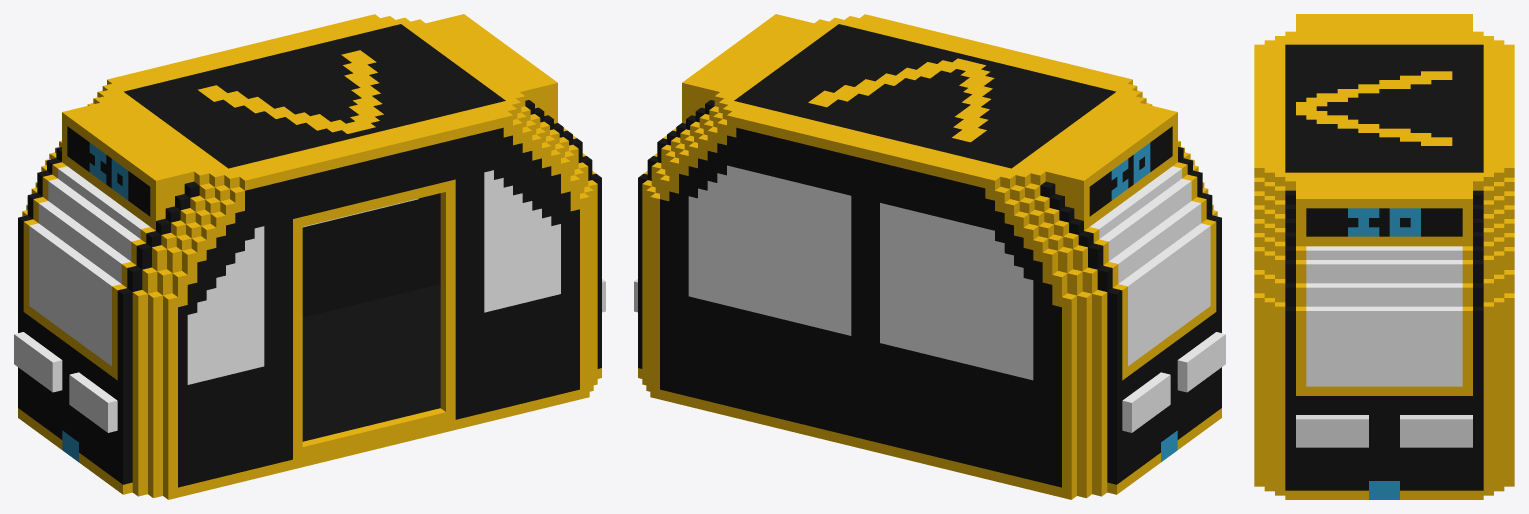
The model's file is Bus_V2.fbx.
3 views of the same model, side by side, from view 1: azimuth 30°, elevation 25°; view 2: azimuth 150°, elevation 25°; view 3: azimuth 270°, elevation 25° (orthographic). The views are drawn at different scales.
Parts seen in each view (by area): view 1: Bus_V2; view 2: Bus_V2; view 3: Bus_V2.
Part boxes in pixels (x1,y1,x2,y2): Bus_V2: (14, 14, 605, 499); Bus_V2: (634, 14, 1225, 499); Bus_V2: (1254, 14, 1514, 499).
Size of the model in its own units: 5.2 by 3 by 2.5.
1 material, 1 textured.
